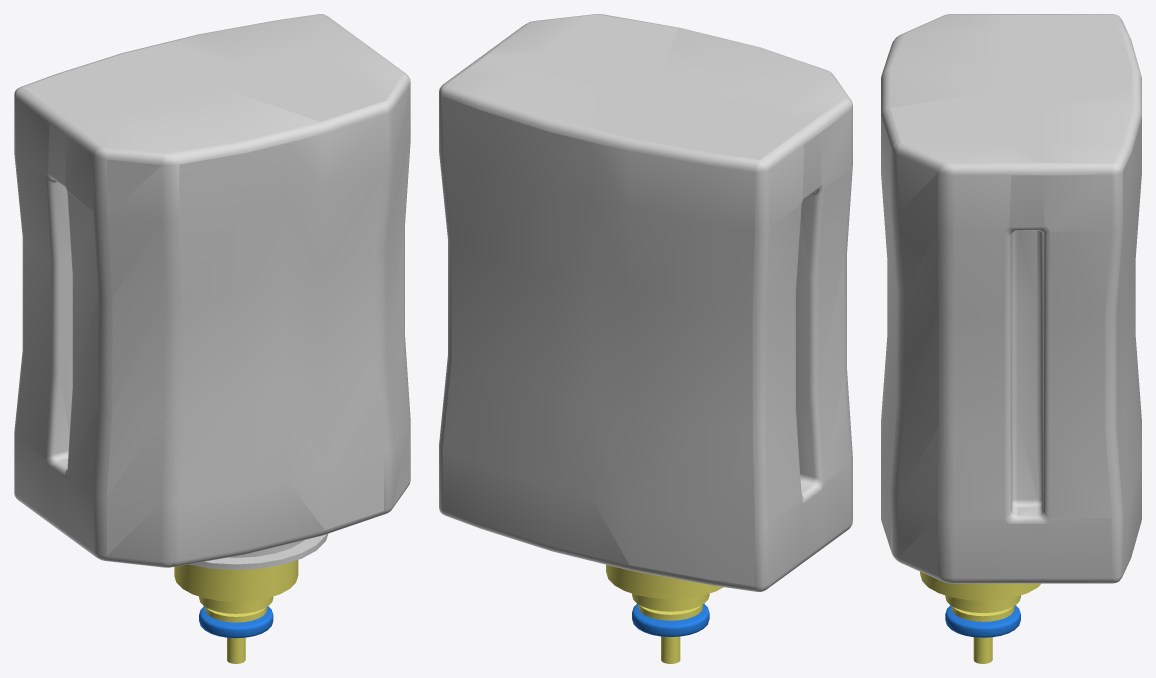
Rendered from can.gltf.
3 views of the same model, side by side, from view 1: azimuth 30°, elevation 25°; view 2: azimuth 150°, elevation 25°; view 3: azimuth 270°, elevation 25° (orthographic). The views are drawn at different scales.
Visible parts, largest first — view 1: tank, Null.1, Cylinder.6; view 2: tank, Null.1, Cylinder.6; view 3: tank, Null.1, Cylinder.6.
Part boxes in pixels (x1=…): tank: x1=14, y1=14, x2=410, y2=569; Null.1: x1=174, y1=560, x2=298, y2=663; Cylinder.6: x1=199, y1=606, x2=273, y2=638; tank: x1=439, y1=14, x2=852, y2=591; Null.1: x1=606, y1=564, x2=723, y2=663; Cylinder.6: x1=632, y1=603, x2=709, y2=636; tank: x1=881, y1=14, x2=1141, y2=583; Null.1: x1=920, y1=571, x2=1040, y2=663; Cylinder.6: x1=945, y1=605, x2=1020, y2=637.
Size of the model in its own units: 11.72 by 20 by 8.28.
